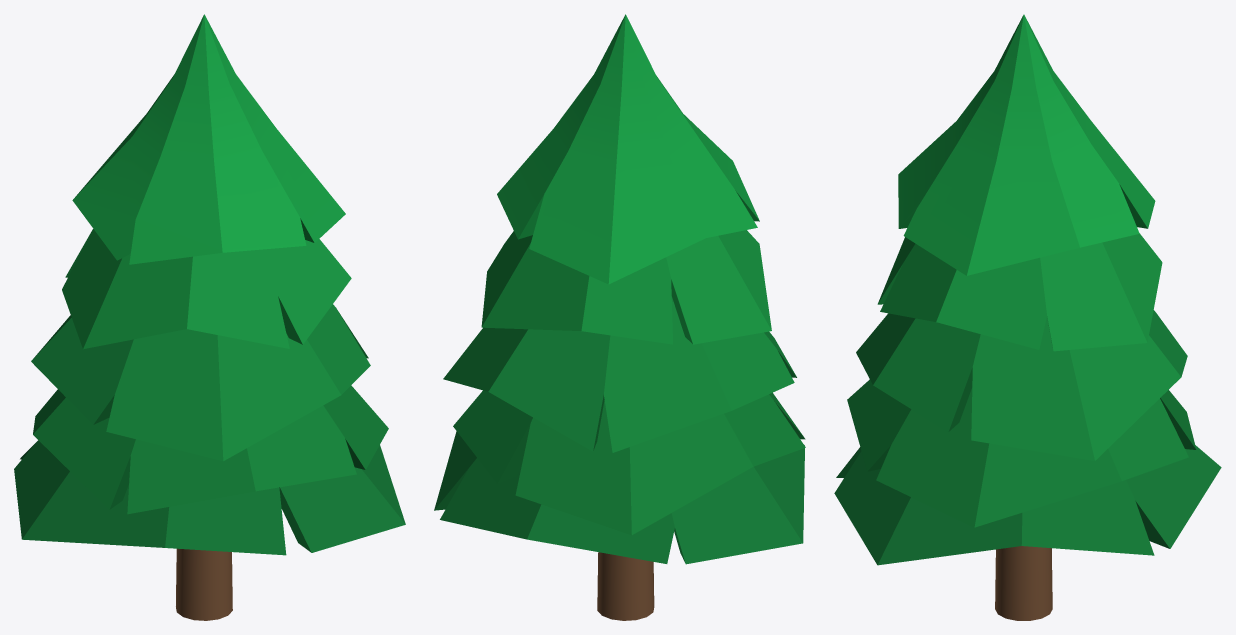
File: Spruce_DarkGreen_Thick_3.fbx
The picture shows the model from 3 angles, left to right: view 1: azimuth 30°, elevation 25°; view 2: azimuth 150°, elevation 25°; view 3: azimuth 270°, elevation 25°; orthographic projection.
Visible parts, largest first — view 1: Cylinder.059, Cylinder.060, Cylinder.061, Cylinder.063, Cylinder.062, Cylinder.064; view 2: Cylinder.059, Cylinder.060, Cylinder.062, Cylinder.061, Cylinder.063, Cylinder.064; view 3: Cylinder.059, Cylinder.060, Cylinder.062, Cylinder.061, Cylinder.063, Cylinder.064.
Boxes of the visible parts, x1,y1,x2,y2 form: Cylinder.059: (72, 14, 345, 264); Cylinder.060: (31, 304, 370, 461); Cylinder.061: (62, 229, 351, 349); Cylinder.063: (14, 440, 405, 555); Cylinder.062: (33, 385, 388, 514); Cylinder.064: (176, 548, 232, 620); Cylinder.059: (497, 14, 759, 284); Cylinder.060: (443, 296, 796, 452); Cylinder.062: (453, 390, 805, 535); Cylinder.061: (481, 230, 771, 344); Cylinder.063: (434, 431, 804, 564); Cylinder.064: (597, 552, 654, 620); Cylinder.059: (898, 14, 1155, 275); Cylinder.060: (856, 310, 1187, 460); Cylinder.062: (847, 379, 1196, 527); Cylinder.061: (877, 233, 1162, 351); Cylinder.063: (834, 445, 1221, 565); Cylinder.064: (995, 546, 1052, 620).
Bounding box in the file's own units: 347 × 567 × 334.
